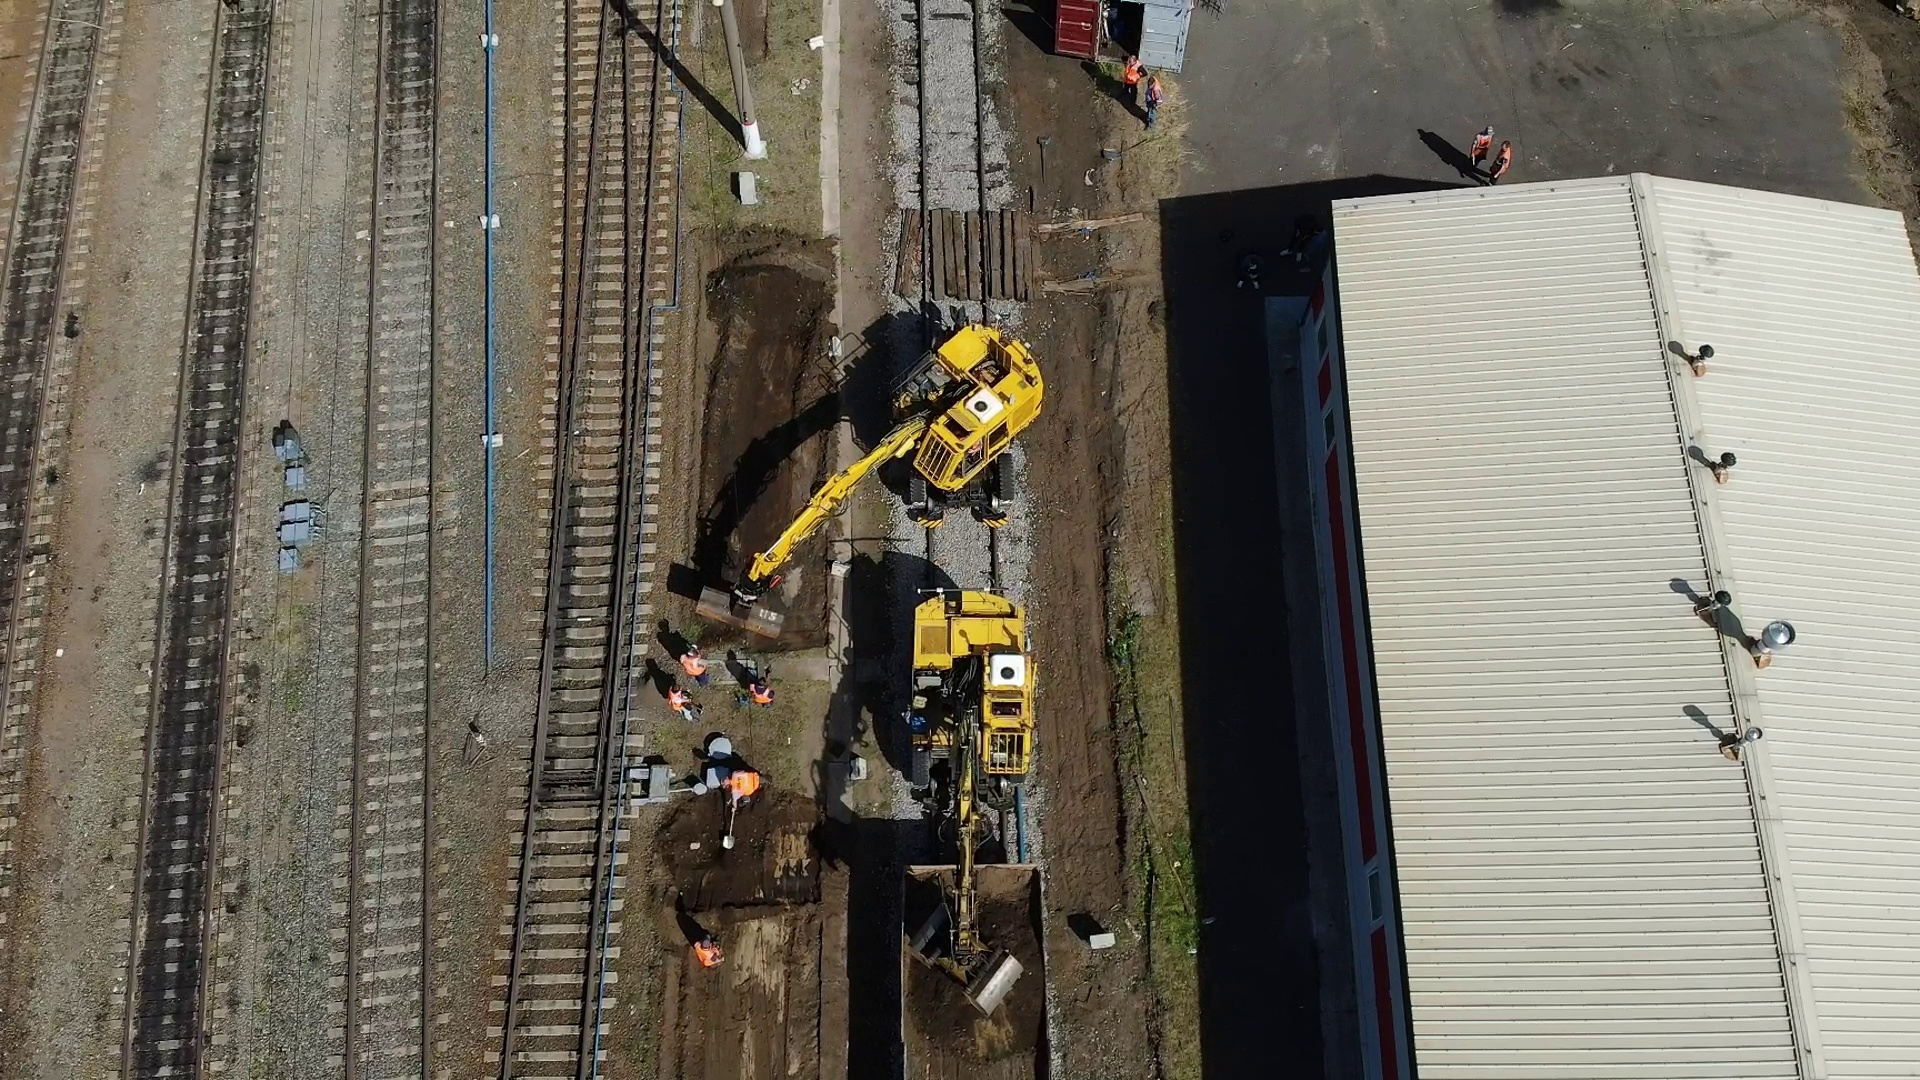kjtv: (910, 578, 1035, 795), (897, 330, 1029, 518)
